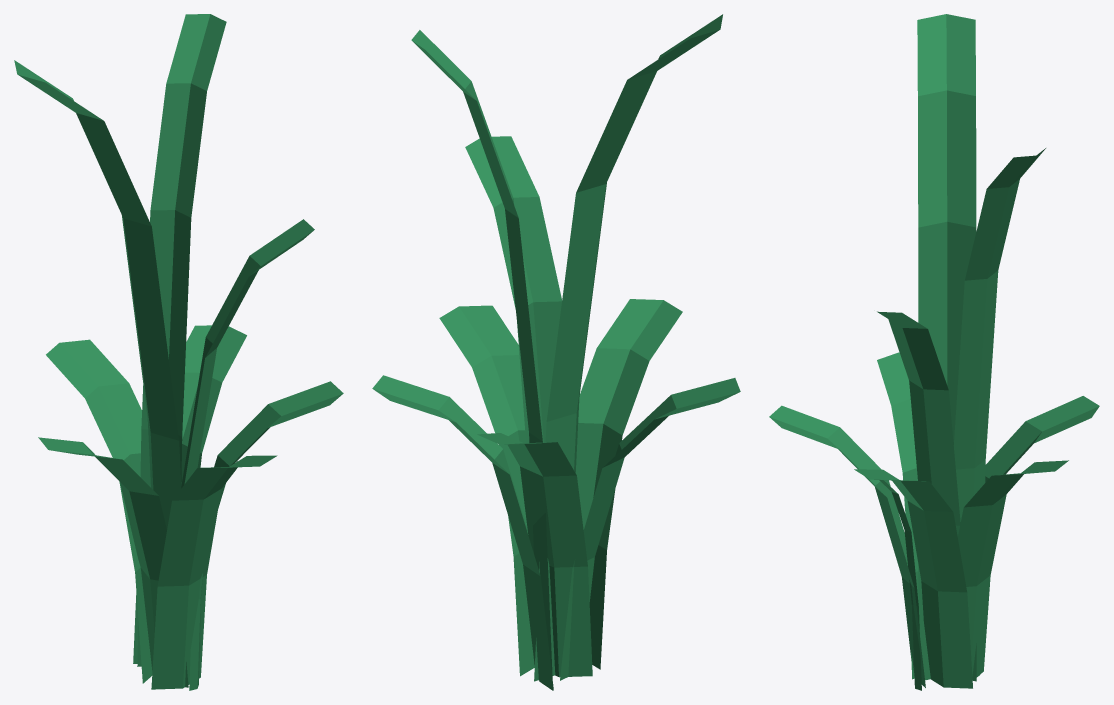
File: Tropic_Bush_Mid.fbx
3 renders of one model, left to right at view 1: azimuth 30°, elevation 25°; view 2: azimuth 150°, elevation 25°; view 3: azimuth 270°, elevation 25°, orthographic. The views are drawn at different scales.
Parts seen in each view (by area): view 1: Plane; view 2: Plane; view 3: Plane.
Boxes of the visible parts, x1,y1,x2,y2 form: Plane: (14,14,343,690); Plane: (372,14,740,690); Plane: (769,14,1099,690).
Size of the model in its own units: 132 by 282 by 141.
